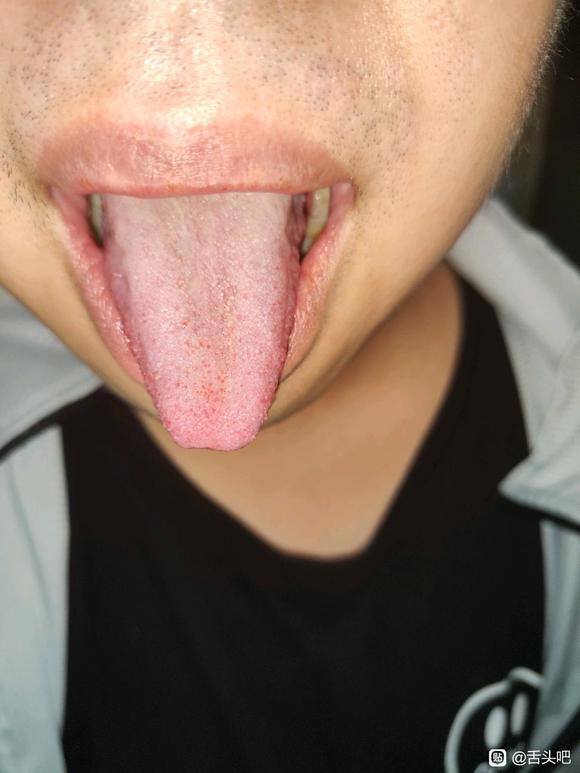baitaishe: (102, 191, 310, 451)
hongdianshe: (205, 342, 212, 350)
shoushe: (102, 191, 310, 451)
